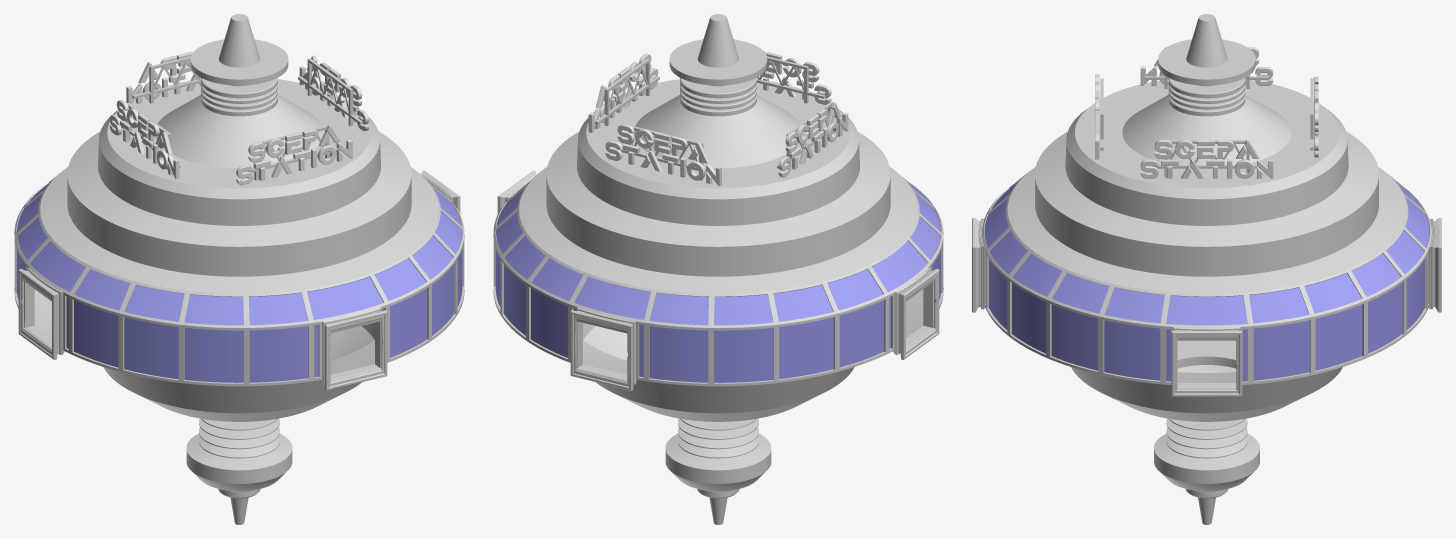
File: exterior.fbx
The picture shows the model from 3 angles, left to right: view 1: azimuth 30°, elevation 25°; view 2: azimuth 150°, elevation 25°; view 3: azimuth 270°, elevation 25°; orthographic projection.
Visible parts, largest first — view 1: exterior EXPORT.UV UNWRAPPED, scepa sign; view 2: exterior EXPORT.UV UNWRAPPED, scepa sign; view 3: exterior EXPORT.UV UNWRAPPED, scepa sign.
Part boxes in pixels (box(x1,y1,x2,y2)): exterior EXPORT.UV UNWRAPPED: box(14, 14, 464, 524); scepa sign: box(109, 51, 369, 185); exterior EXPORT.UV UNWRAPPED: box(493, 14, 943, 524); scepa sign: box(588, 51, 848, 186); exterior EXPORT.UV UNWRAPPED: box(972, 14, 1441, 524); scepa sign: box(1095, 47, 1318, 178).
Bounding box in the file's own units: 2783 × 3303 × 2783.
